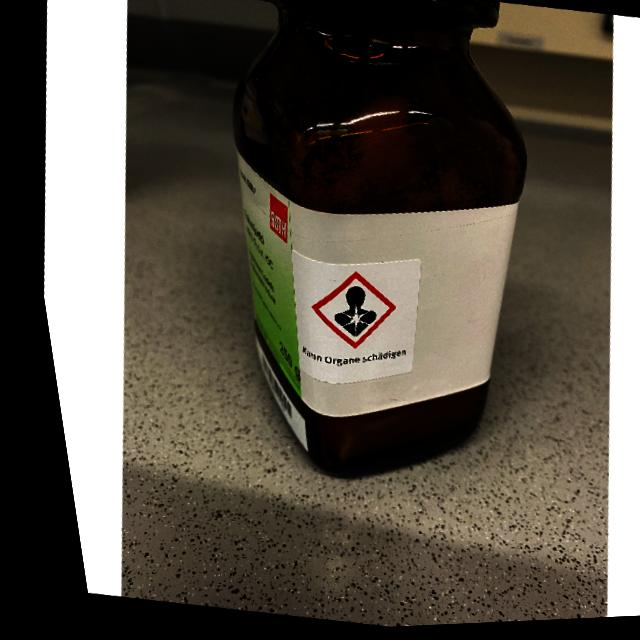serious health hazard: (318, 285, 372, 343)
